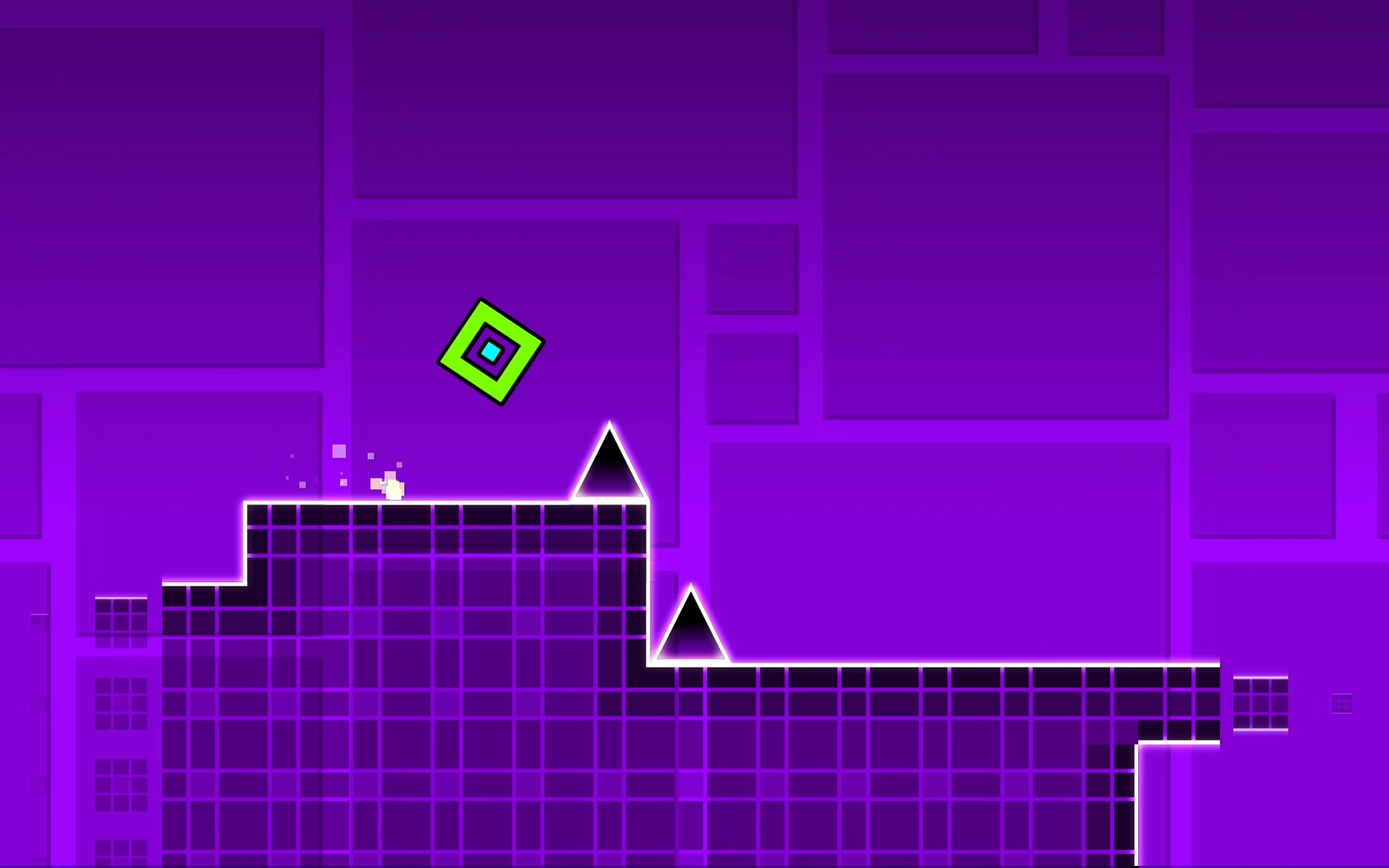Block2: (246, 503, 644, 868), (645, 665, 1138, 868), (97, 585, 245, 868), (1136, 665, 1242, 741)
Player: (435, 298, 543, 404)
Spike: (651, 584, 730, 663), (571, 421, 648, 500)
